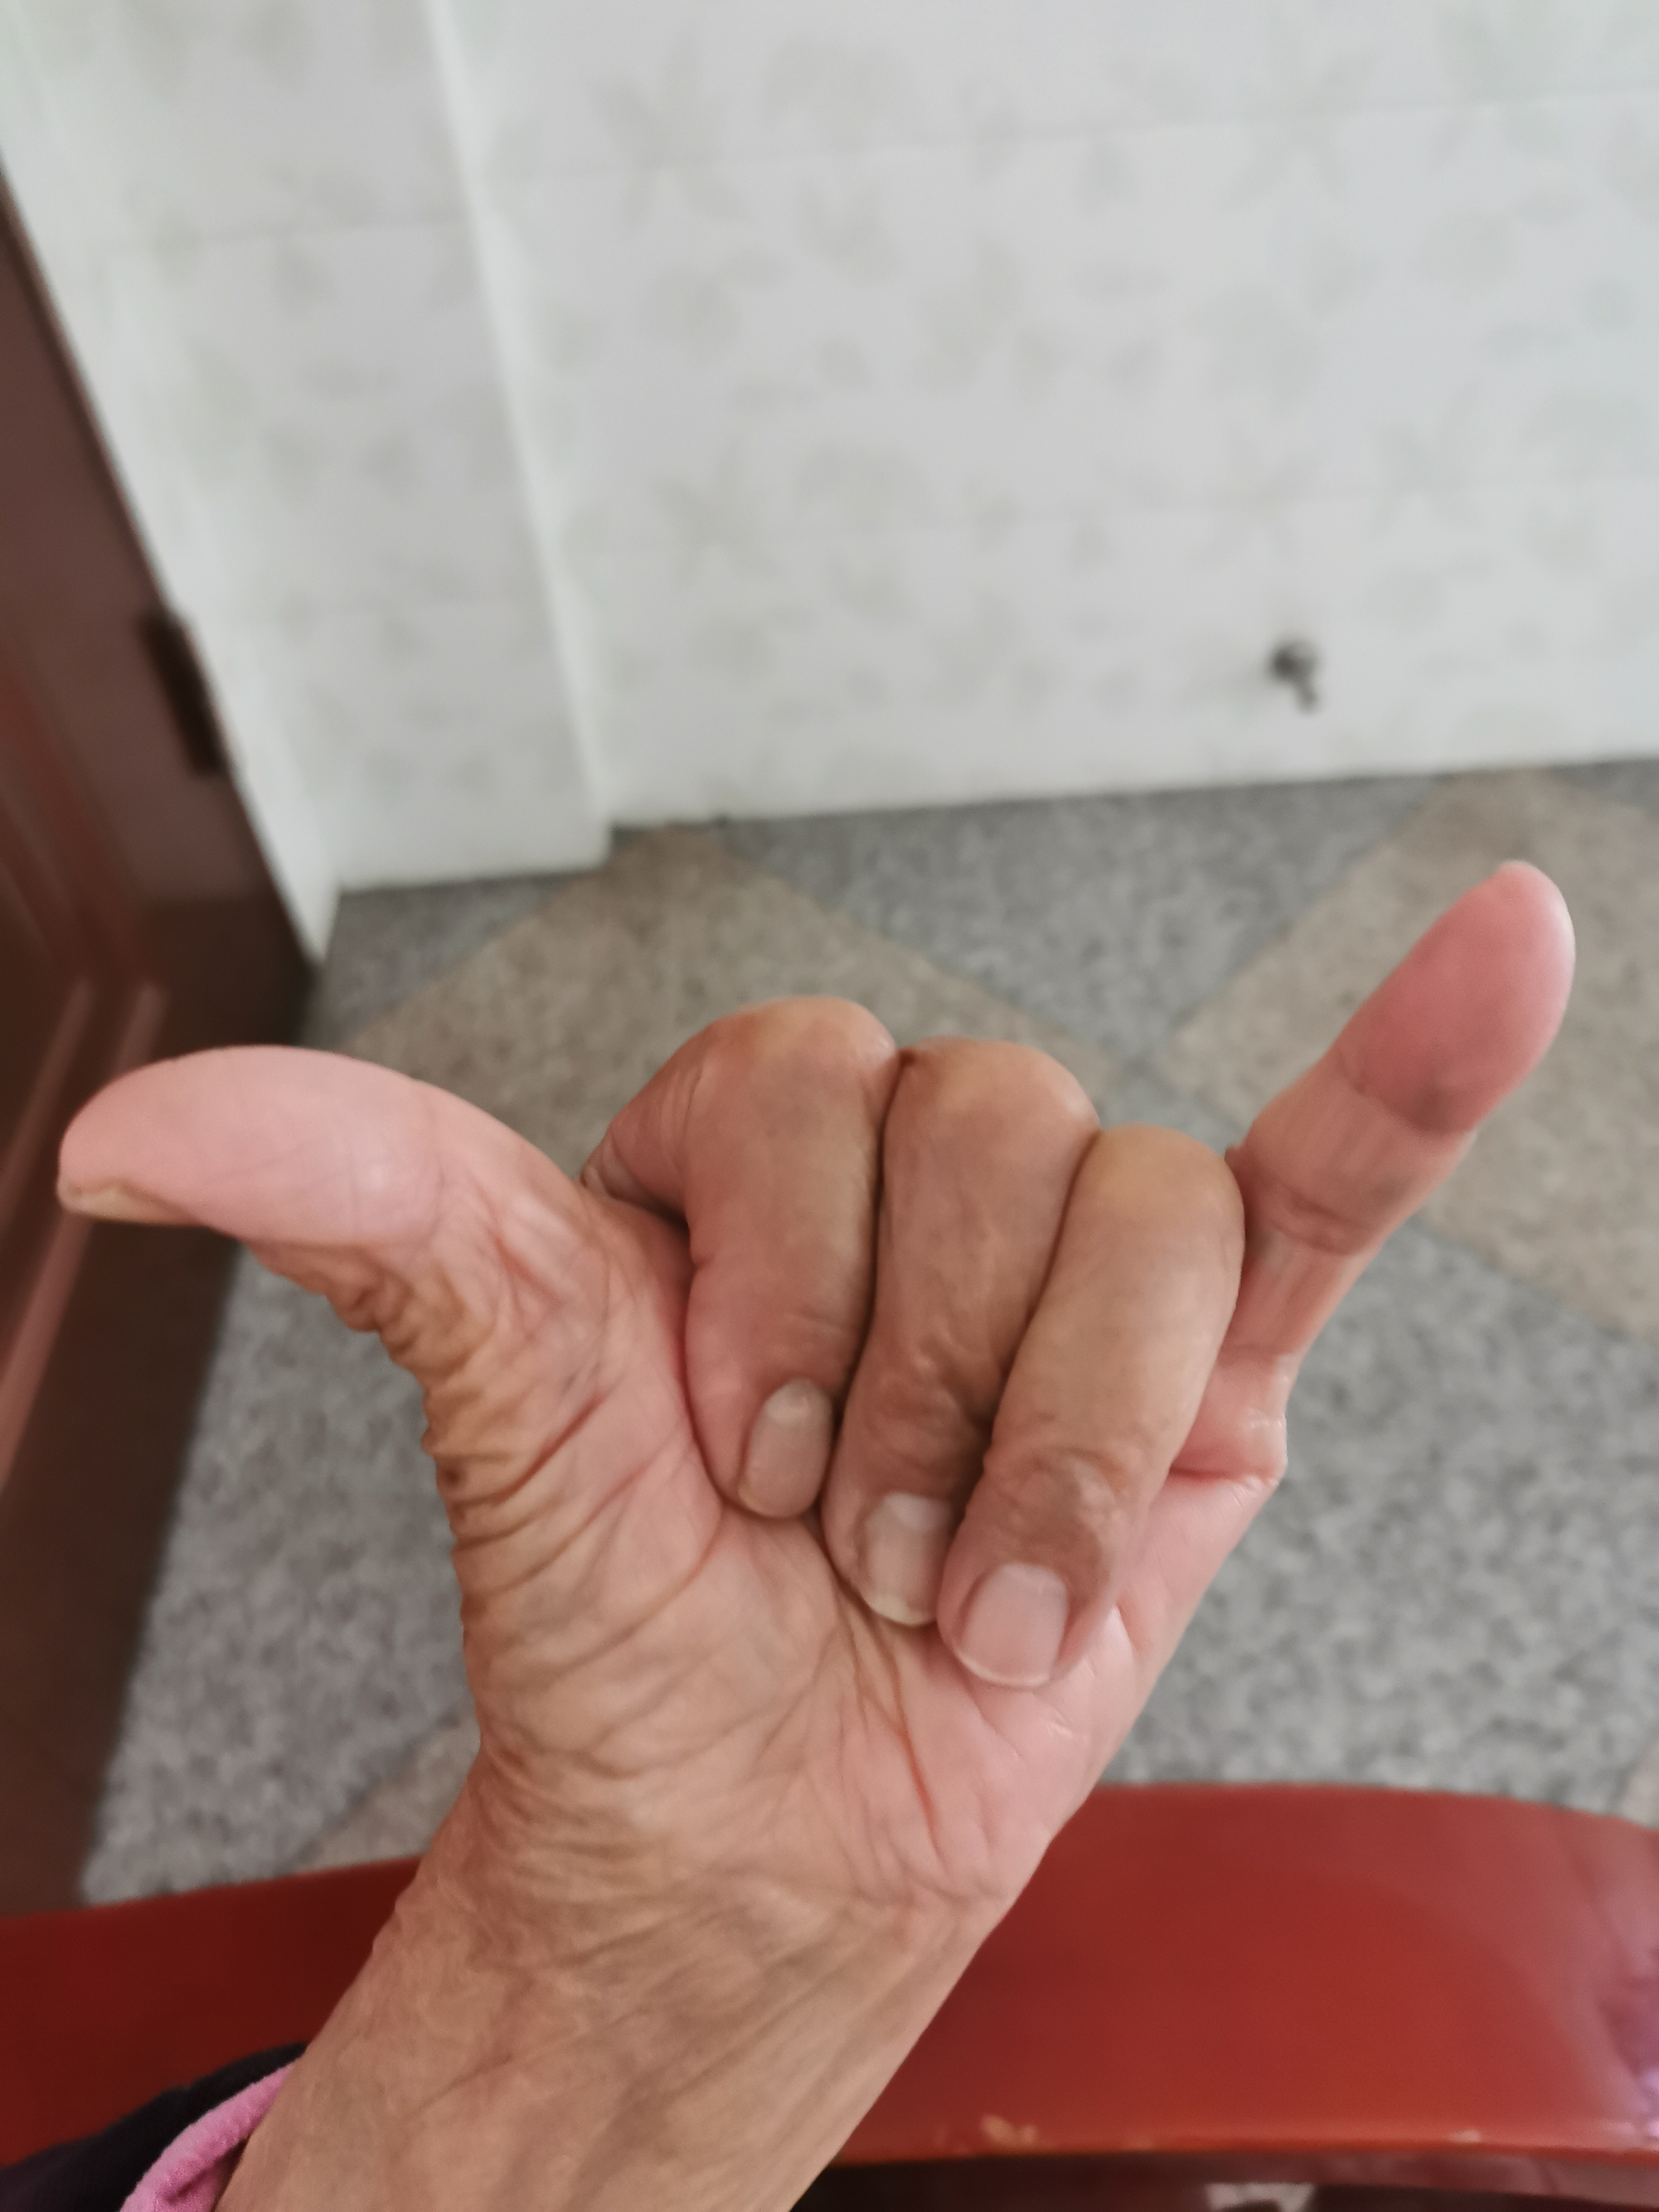clockwise: (64, 845, 1598, 1972)
